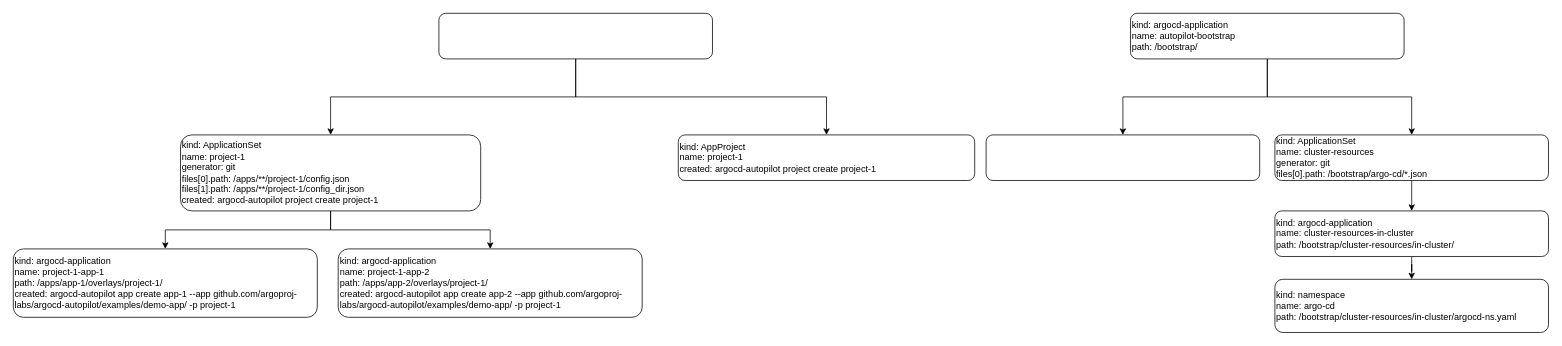
Image size: 1562x346. Some labels were removed from this diagram. The shapes that lost their labels are listed below. From the top down, each one's box as (x1, y1, x2, y2) in pixels, then its label:
(438, 13, 712, 59): kind: argocd-application name: root path: /projects/
(985, 134, 1260, 180): kind: argocd-application name: argo-cd path: /bootstrap/argo-cd/
